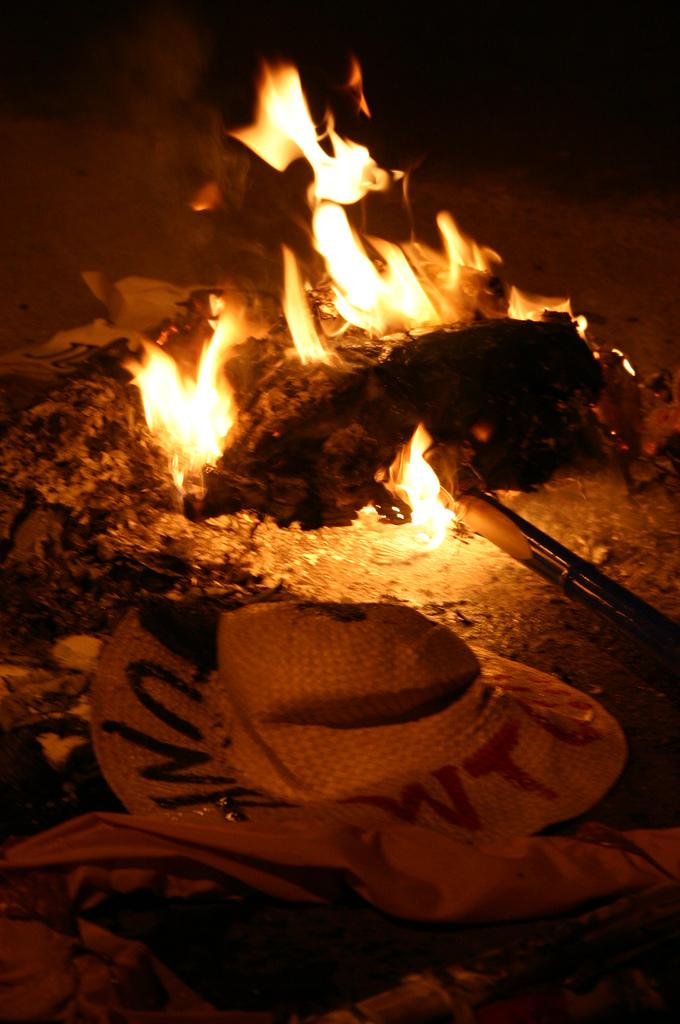fire: (318, 205, 475, 325), (248, 85, 375, 202), (382, 430, 458, 552), (142, 350, 222, 460)
